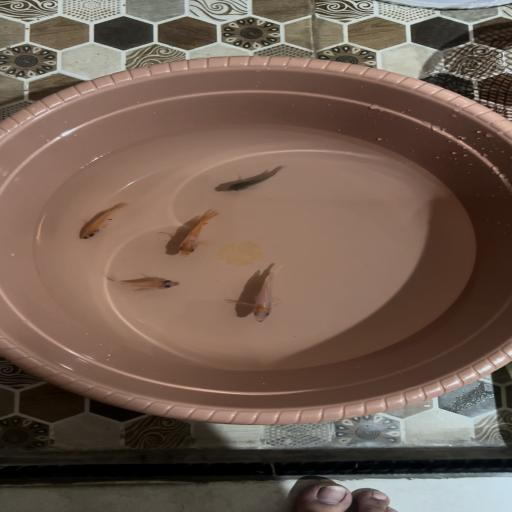nila: (228, 261, 293, 327), (171, 207, 226, 257), (73, 201, 132, 243), (219, 164, 291, 196), (99, 271, 181, 293)
